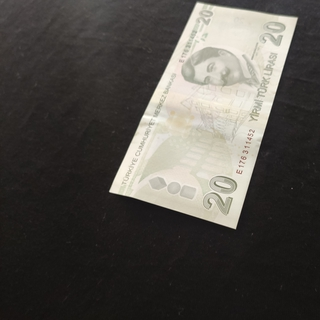20TLBack: (108, 1, 299, 229)
